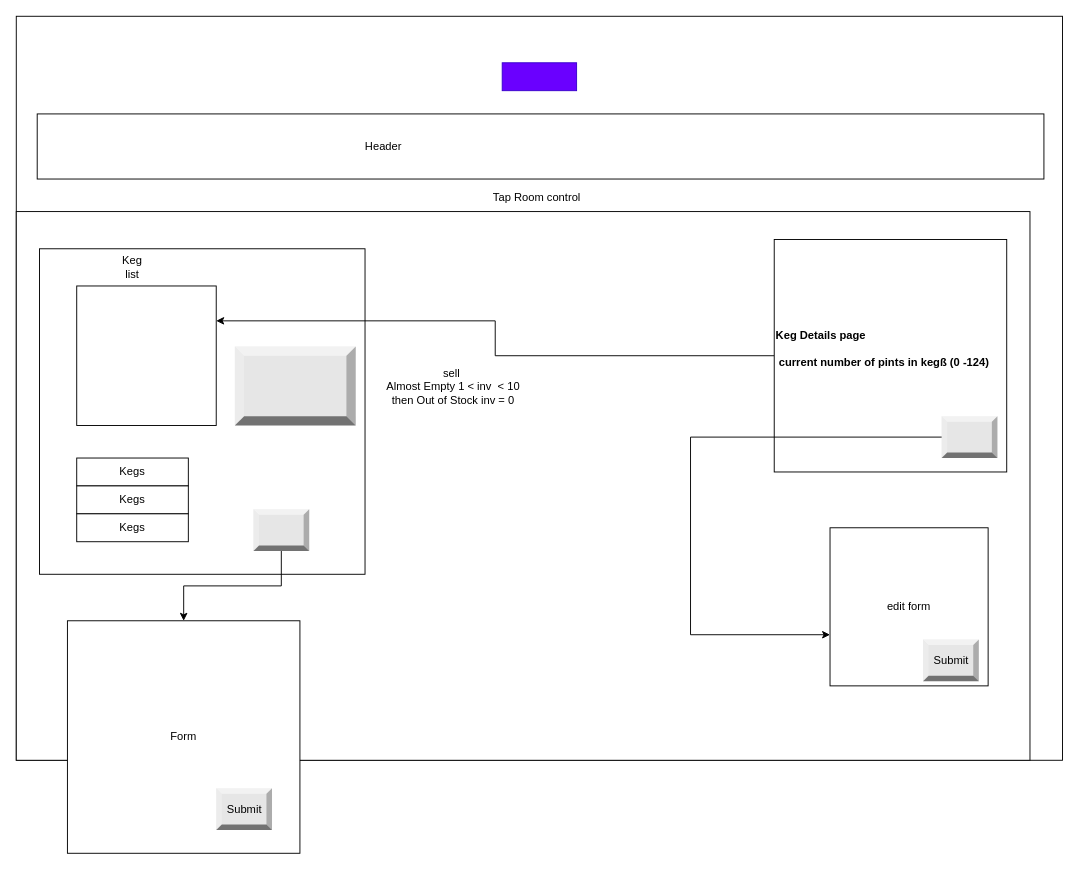
The diagram is 1079 pixels wide and 870 high, and some of its shapes have lost their labels. Here are the shapes that lost their labels. From the top down, the centre of each, then its label:
the point at 539,76: Tap Room App
the point at 146,355: Kegs Name Style Brand Price alc current state of pints
the point at 294,385: sell (decrease by 1 till 0 or sold out)
the point at 969,437: update
the point at 281,530: add keg
